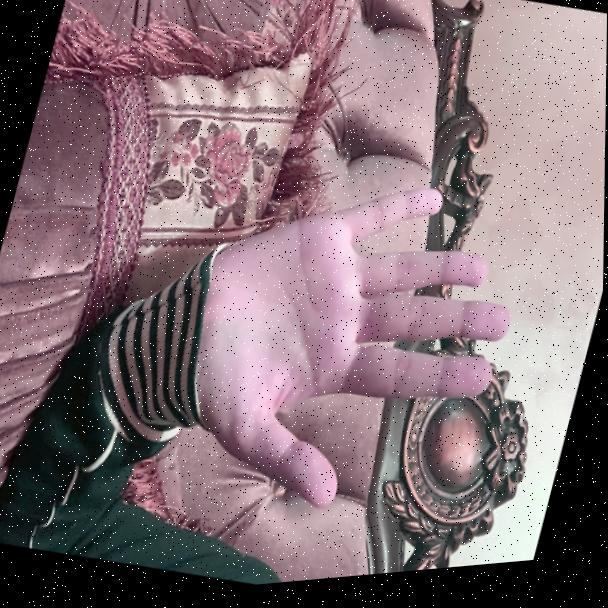five: (79, 108, 556, 579)
